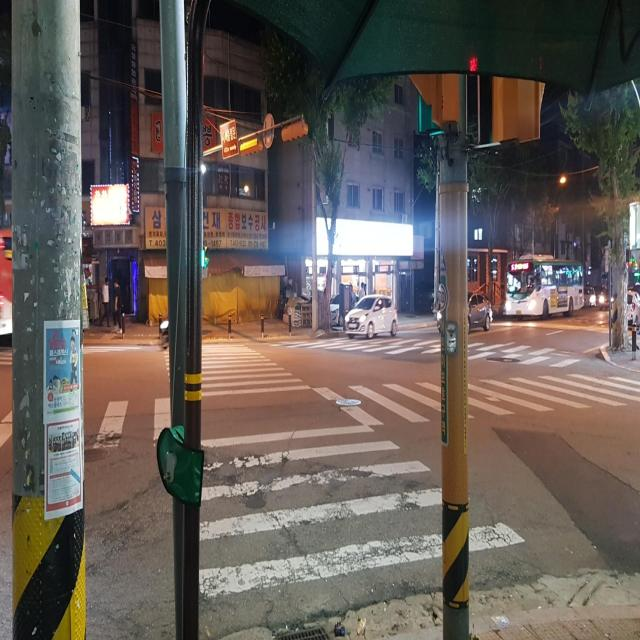횡단보도: (162, 339, 528, 605), (529, 340, 640, 416)
